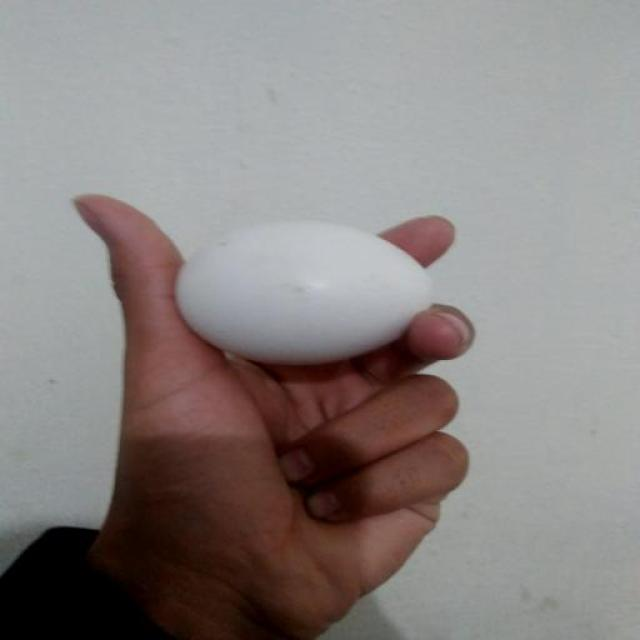telur: (175, 219, 435, 367)
